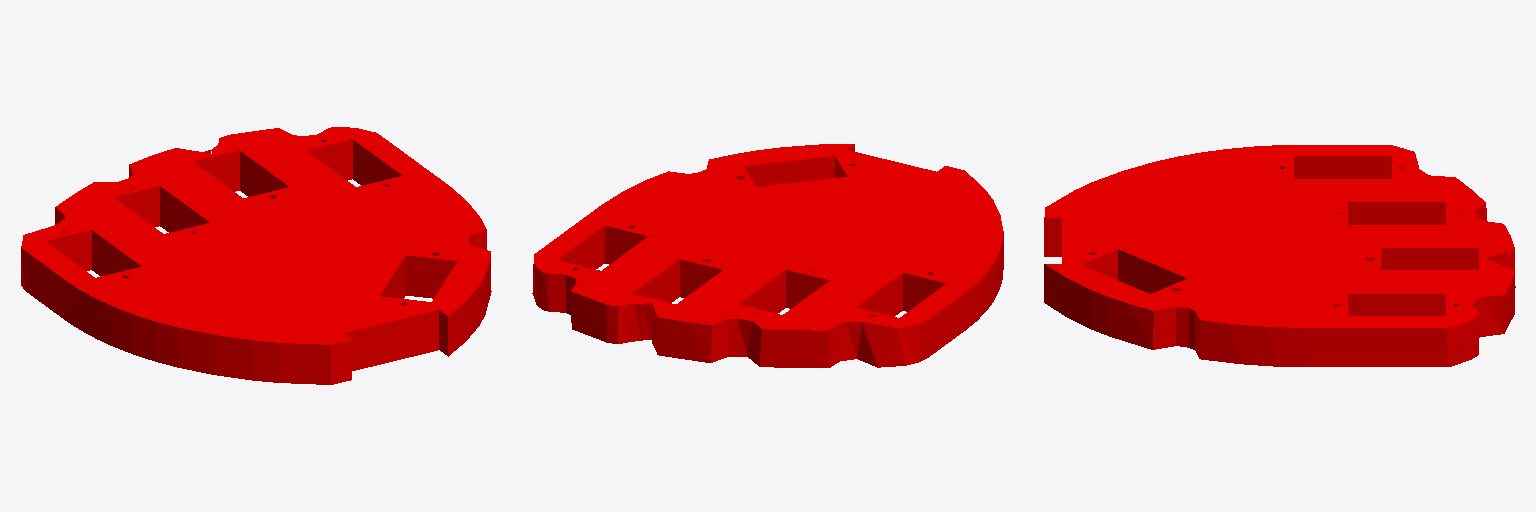
robot.urdf — hands_one:
<?xml version="1.0"?>
<robot name="hands_one">

  <!-- Palm Mid link -->
  <link name="PalmMid_link">
    <visual>
      <origin xyz="0 0 0" rpy="0 0 0"/>
      <geometry>
        <mesh filename="package://hands_one/meshes/PalmMidBlender.dae" scale="1 1 1"/>
      </geometry>
      <material name="red">
        <color rgba="1 0 0 1"/>
      </material>
    </visual>

    <collision>
      <geometry>
        <box size="0.01 0.01 0.01"/>
      </geometry>
    </collision>

    <inertial>
      <mass value="1.0"/>
      <inertia
        ixx="0.01" iyy="0.01" izz="0.01"
        ixy="0" ixz="0" iyz="0"/>
    </inertial>

  </link>
  <gazebo reference="PalmMid_link"> 
    <material>Gazebo/Red</material>
  </gazebo>

</robot>

--- Facts derived from the render (not from the file) ---
3 views of the same robot in one strip: view 1: azimuth 30°, elevation 25°; view 2: azimuth 150°, elevation 25°; view 3: azimuth 270°, elevation 25° (orthographic).
Model hands_one with 1 links and 0 joints (none), rooted at PalmMid_link, posed every joint at zero.
Links seen in each view (by area): view 1: PalmMid_link; view 2: PalmMid_link; view 3: PalmMid_link.
Link boxes in pixels (box(x1,y1,x2,y2)): PalmMid_link: box(21, 127, 491, 384); PalmMid_link: box(532, 144, 1003, 367); PalmMid_link: box(1044, 145, 1515, 366).
Size in the robot's own frame: 0.1 by 0.1085 by 0.01 metres.
Meshes: 1 distinct files referenced, 1 mesh visuals loaded (1 Collada DAE).
